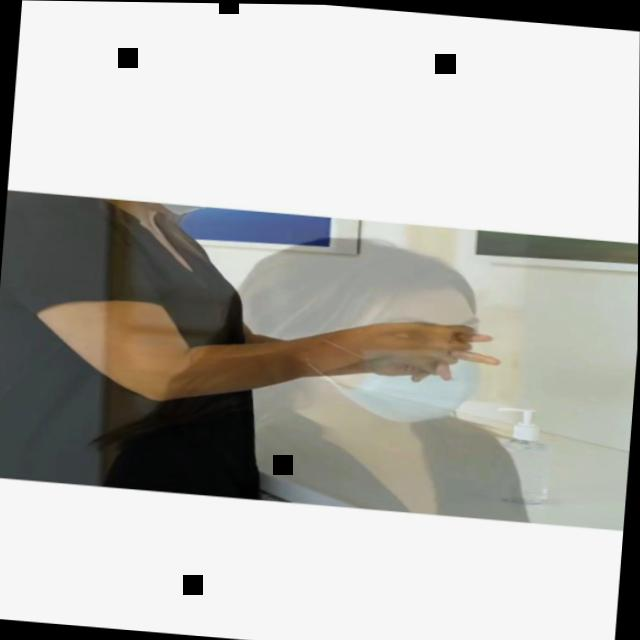Mask: (322, 276, 492, 429), (153, 200, 209, 216)
